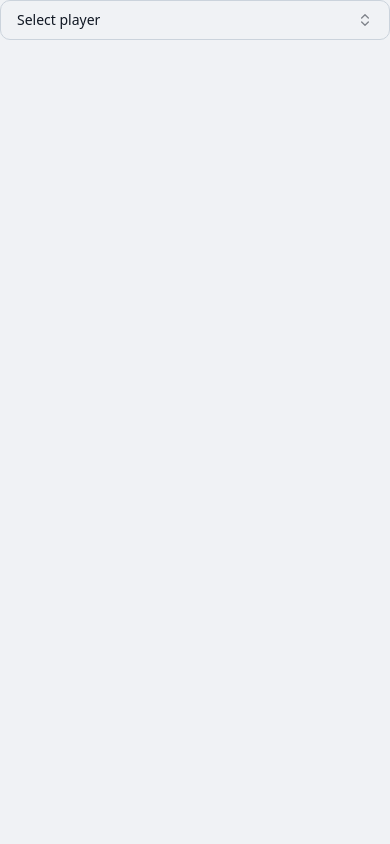
PlayerSelector › clears the search box when the popover closes, so reopening starts unfiltered
The image size is (390, 844).
Earlier steps of the test are not shown.
Click the dropdown at (59, 20), box x1=0 y1=0 x2=389 y2=40
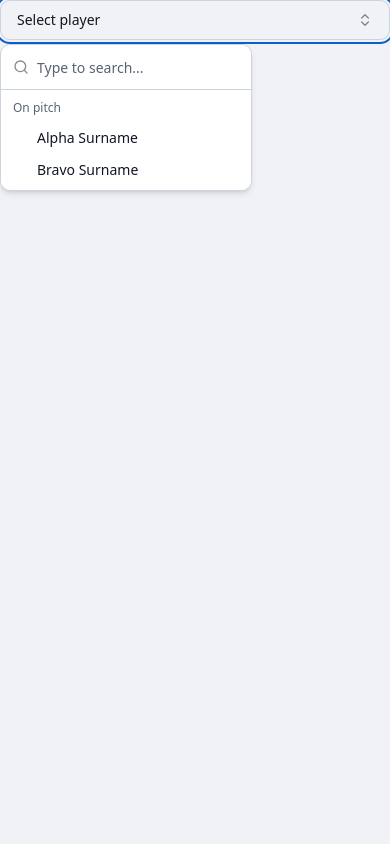
Now the dropdown with placeholder "Type to search..." is empty, box x1=37 y1=45 x2=239 y2=89
